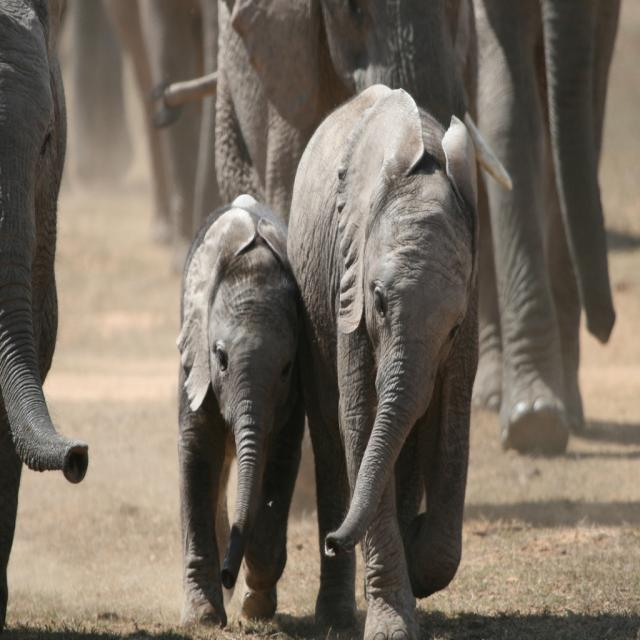elephant: (150, 0, 465, 531), (469, 1, 624, 461), (175, 188, 309, 638), (0, 0, 91, 639), (66, 1, 220, 252)
